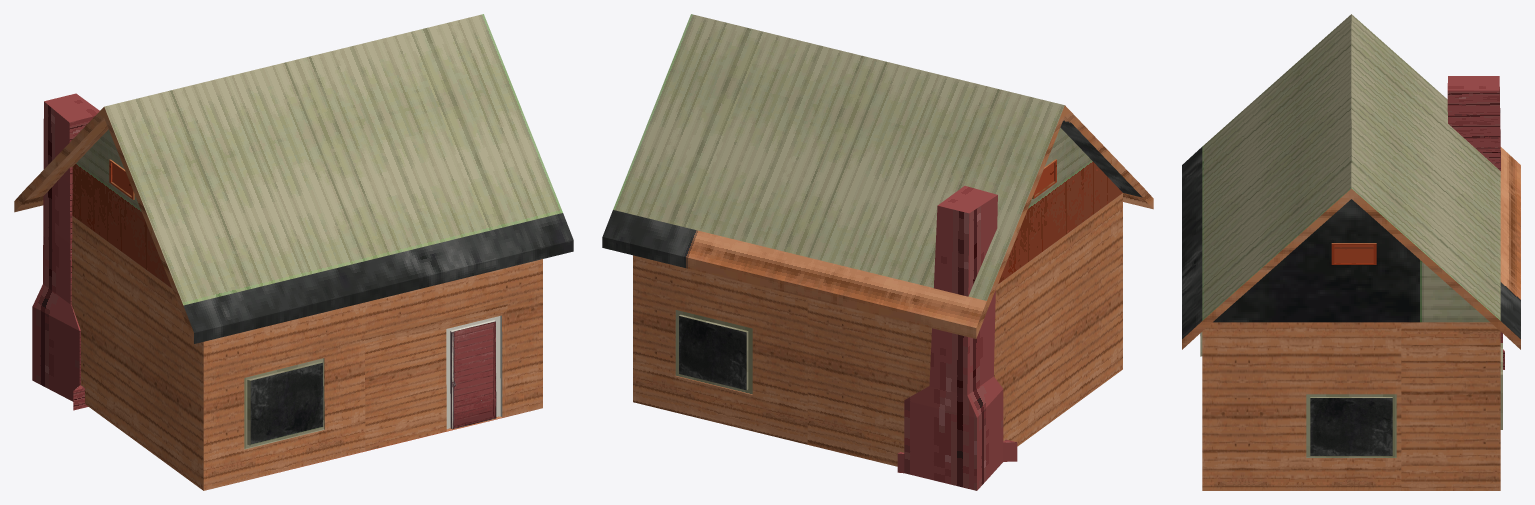
The model's file is mökkiInterior.glb.
3 renders of one model, left to right at view 1: azimuth 30°, elevation 25°; view 2: azimuth 150°, elevation 25°; view 3: azimuth 270°, elevation 25°, orthographic. The views are drawn at different scales.
Parts seen in each view (by area): view 1: MökkiInterior; view 2: MökkiInterior; view 3: MökkiInterior.
Boxes of the visible parts, box(x1,y1,x2,y2) form: MökkiInterior: box(14, 14, 573, 490); MökkiInterior: box(602, 14, 1153, 490); MökkiInterior: box(1182, 14, 1520, 490).
Bounding box in the file's own units: 3.61 × 3.04 × 2.96.
Materials: 2 (2 with a texture image).
